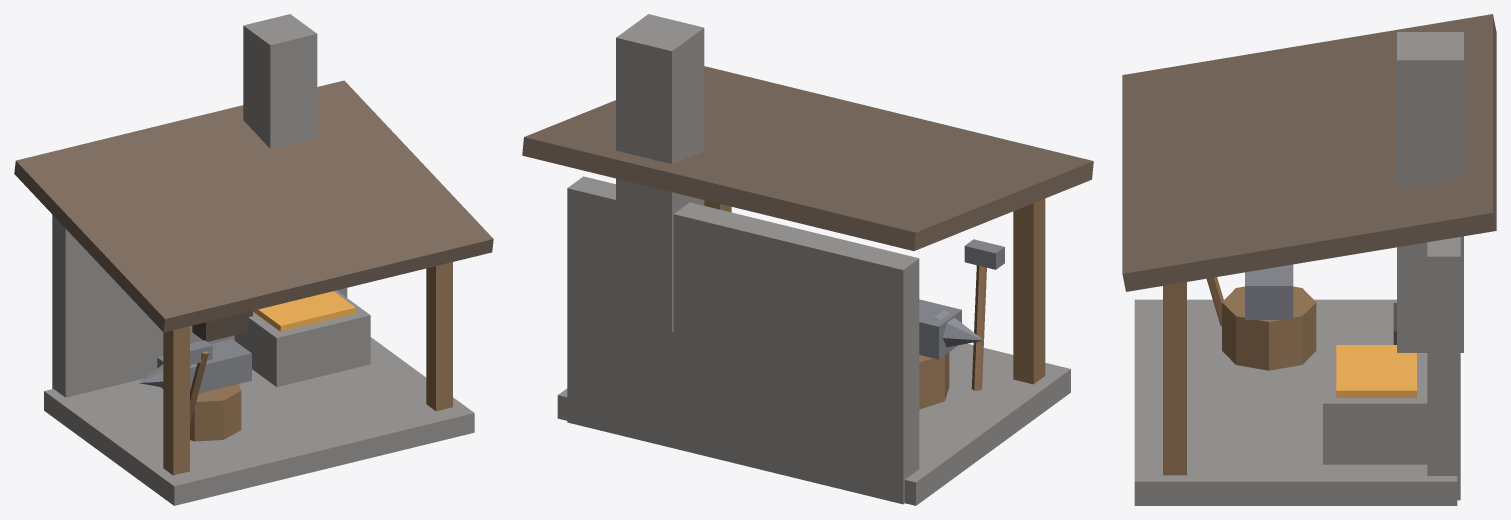
File: kuznia.glb
3 views of the same model, side by side, from view 1: azimuth 30°, elevation 25°; view 2: azimuth 150°, elevation 25°; view 3: azimuth 270°, elevation 25° (orthographic). The views are drawn at different scales.
Parts seen in each view (by area): view 1: kuznia; view 2: kuznia; view 3: kuznia.
Boxes of the visible parts, <box> form: kuznia: <box>14,14,493,505</box>; kuznia: <box>522,14,1093,505</box>; kuznia: <box>1122,14,1496,505</box>.
Size of the model in its own units: 3.5 by 3.4 by 2.78.
